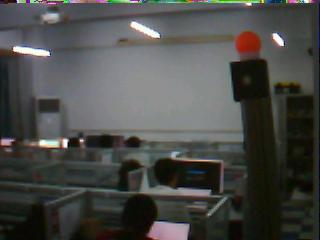oball: (236, 30, 262, 55)
